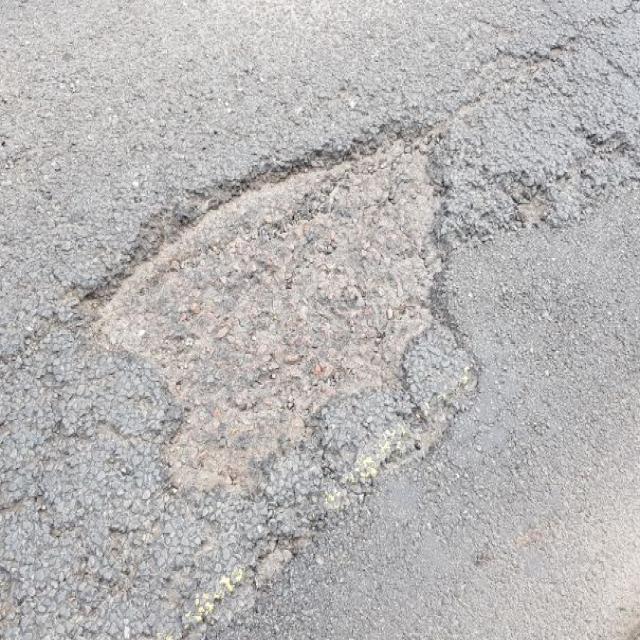Pothole: (63, 108, 484, 538)
